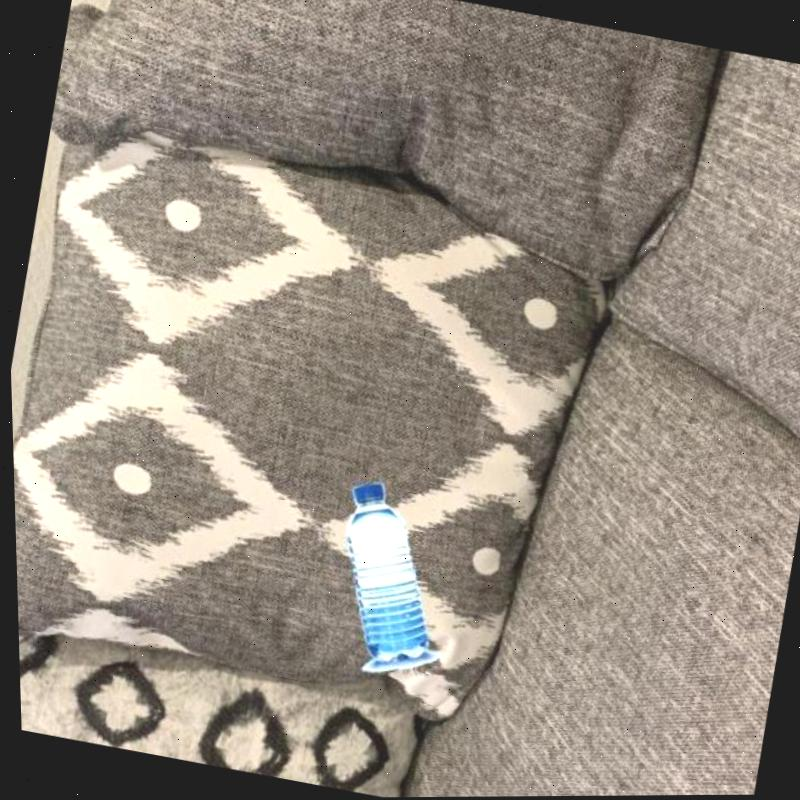botella: (317, 474, 453, 667)
